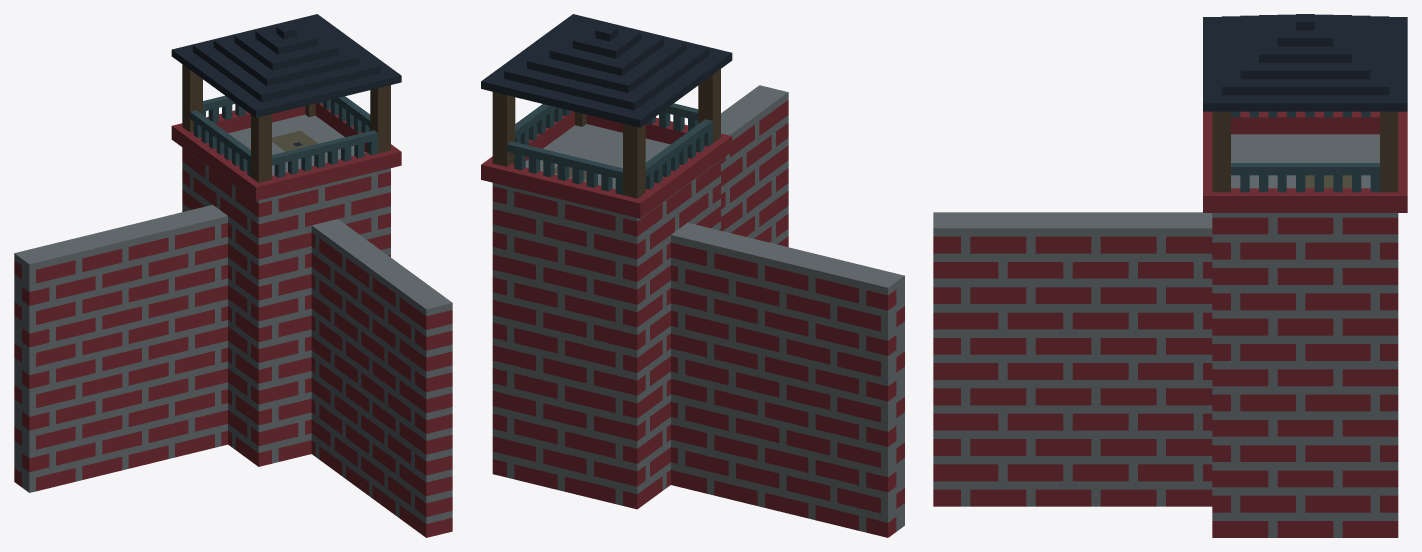
Rendered from wall2_corner.obj.
3 renders of one model, left to right at view 1: azimuth 30°, elevation 25°; view 2: azimuth 150°, elevation 25°; view 3: azimuth 270°, elevation 25°, orthographic. The views are drawn at different scales.
Bounding box in the file's own units: 5.1 × 5.7 × 5.1.
Materials: 1 (1 with a texture image).
